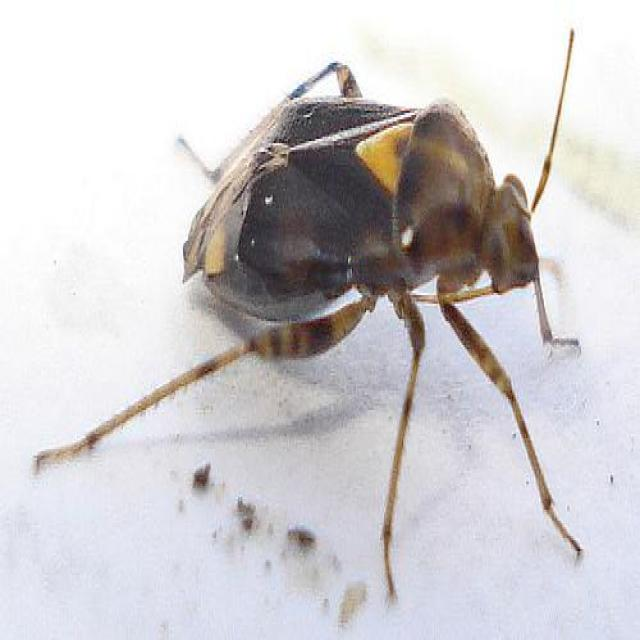Miridae-Adult-: (76, 40, 607, 600)
